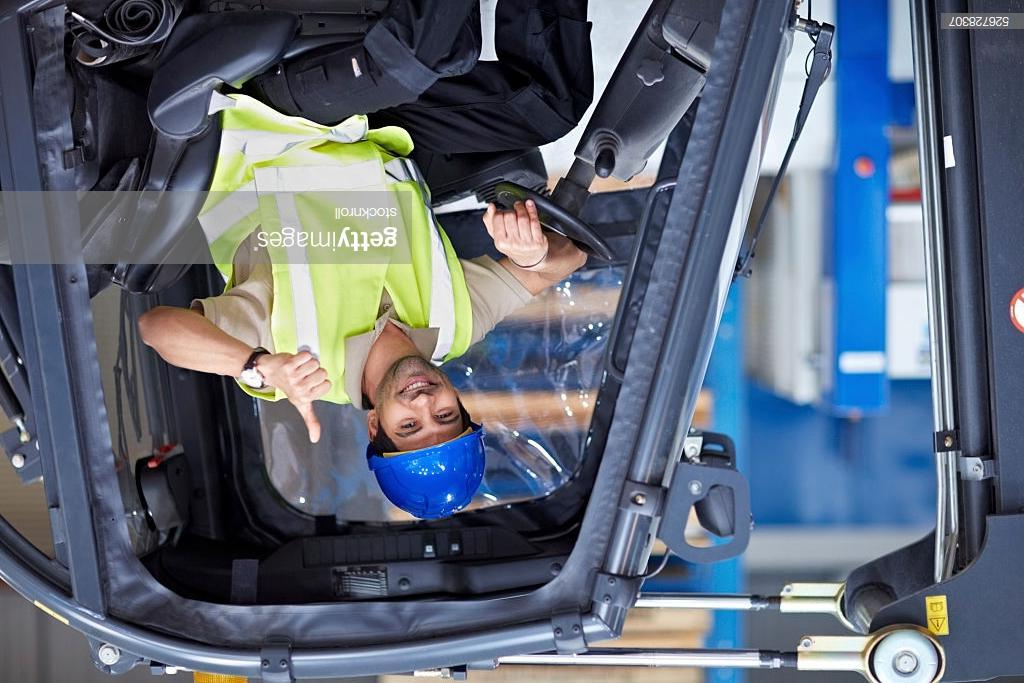thumbsdown: (281, 350, 331, 443)
